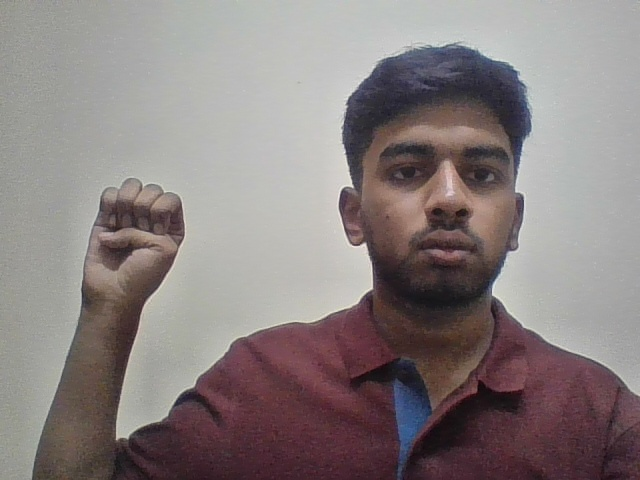E: (63, 167, 198, 312)
